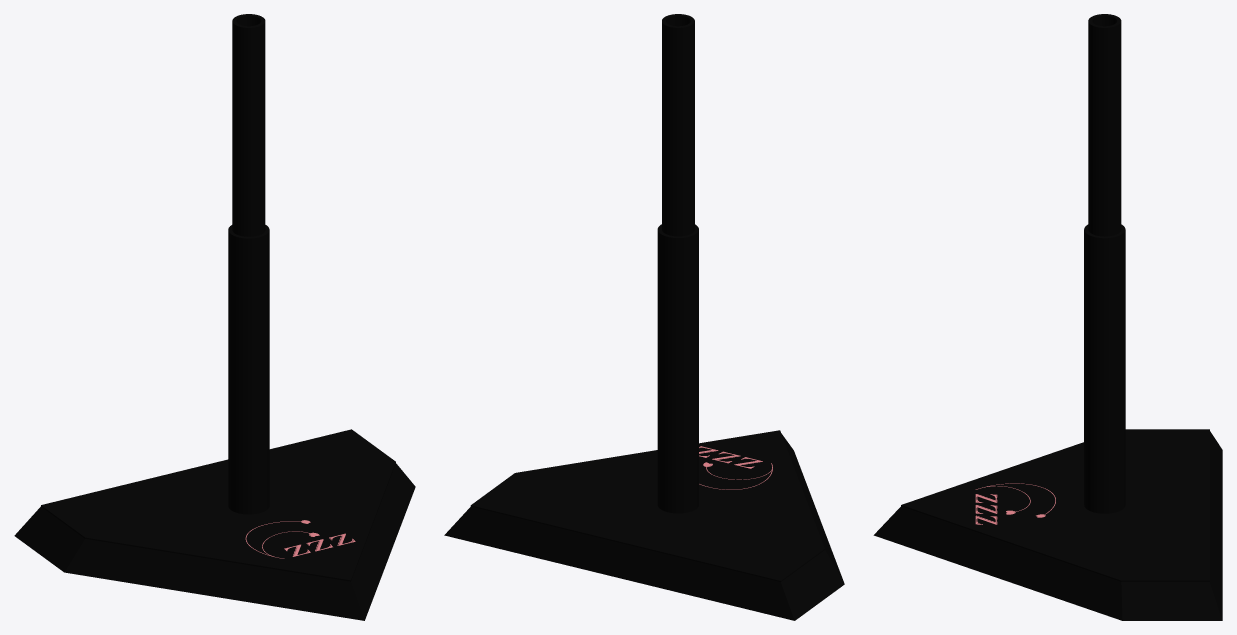
The model's file is BattingTee2.fbx.
The picture shows the model from 3 angles, left to right: view 1: azimuth 30°, elevation 25°; view 2: azimuth 150°, elevation 25°; view 3: azimuth 270°, elevation 25°; orthographic projection.
Parts seen in each view (by area): view 1: Base.001, Tube1, Tube2, logosmall; view 2: Base.001, Tube1, Tube2; view 3: Base.001, Tube1, Tube2, logosmall.
Boxes of the visible parts, <box> form: Base.001: <box>14,429,415,620</box>; Tube1: <box>228,225,269,514</box>; Tube2: <box>232,14,265,236</box>; logosmall: <box>245,520,355,558</box>; Base.001: <box>444,430,844,620</box>; Tube1: <box>657,224,698,513</box>; Tube2: <box>662,14,694,236</box>; Base.001: <box>873,429,1222,620</box>; Tube1: <box>1084,224,1125,513</box>; Tube2: <box>1088,14,1121,236</box>; logosmall: <box>975,483,1055,524</box>.
Bounding box in the file's own units: 196 × 274 × 169.
